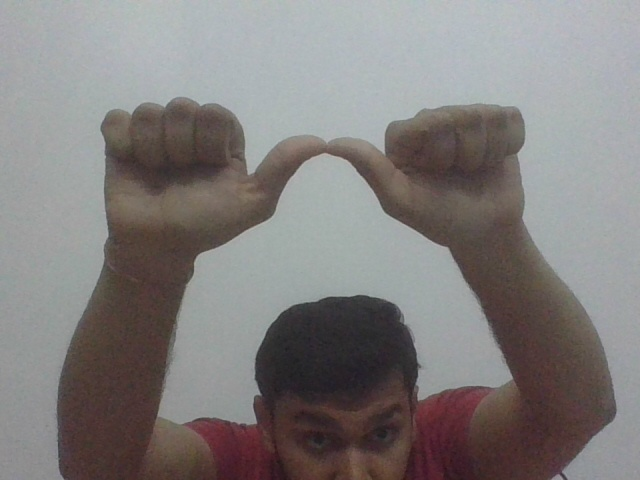A: (85, 92, 542, 241)
